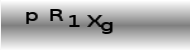1: (66, 14, 81, 28)
R: (48, 7, 64, 22)
X: (85, 13, 102, 27)
g: (100, 21, 113, 34)
p: (25, 10, 38, 24)
